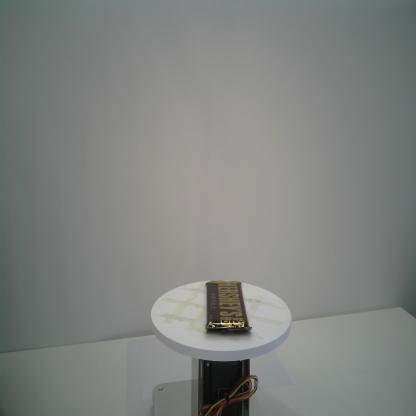Chocolate: (204, 280, 253, 334)
